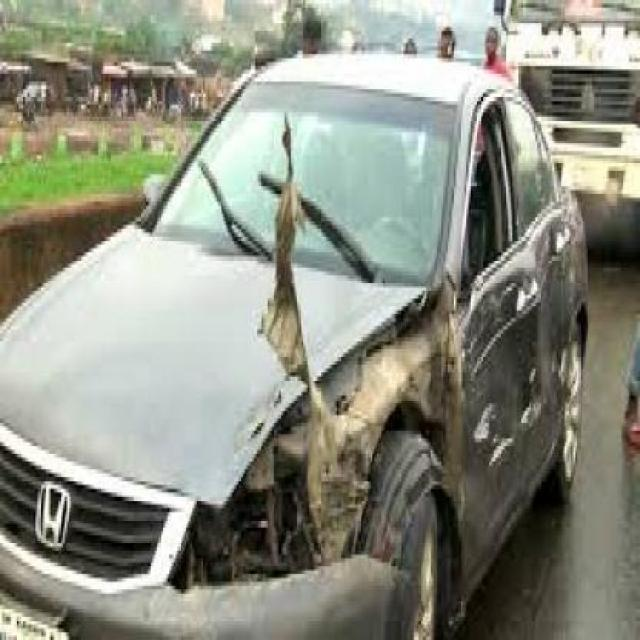accident: (0, 51, 485, 640)
